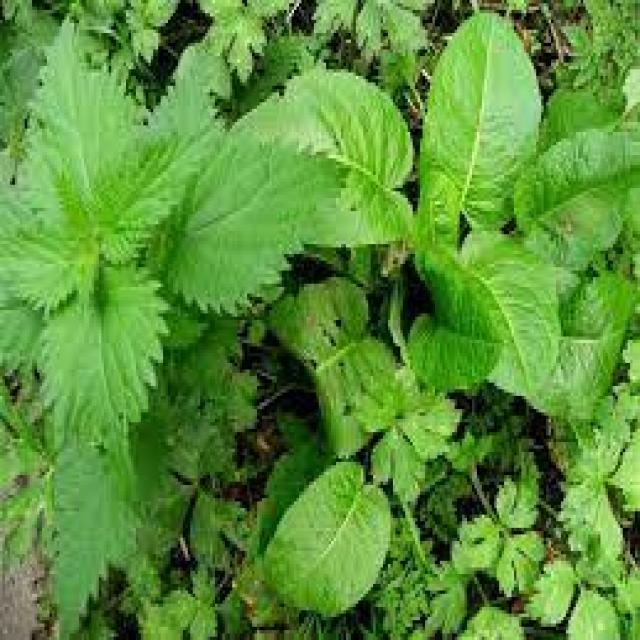organic waste: (272, 39, 640, 448)
